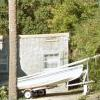Boat: (17, 63, 86, 91)
